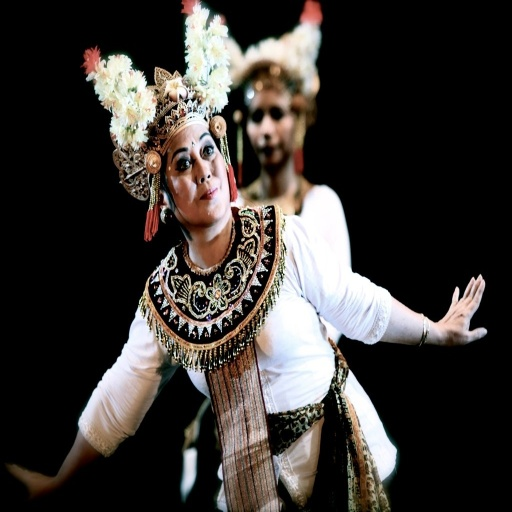hand: (435, 282, 492, 352), (2, 460, 58, 500)
